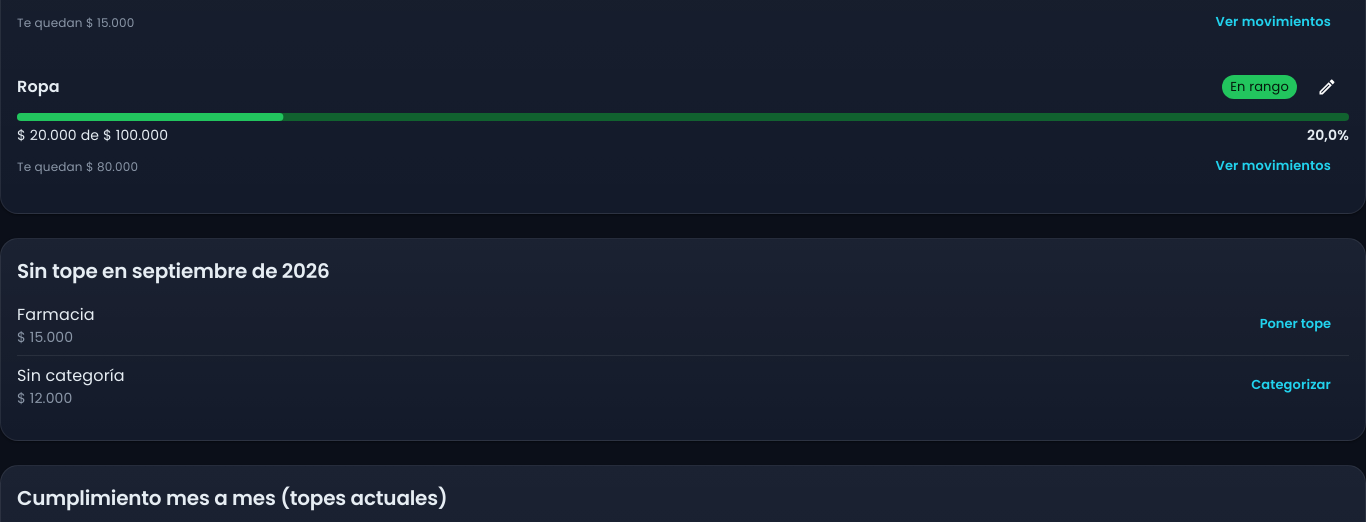
Scenario: BudgetsPage › si el server rechaza el tope muestra su mensaje
(page scrolled)
Click the button with aria-label "Poner tope a Farmacia" at (1295, 325), box [1242,303,1349,347]
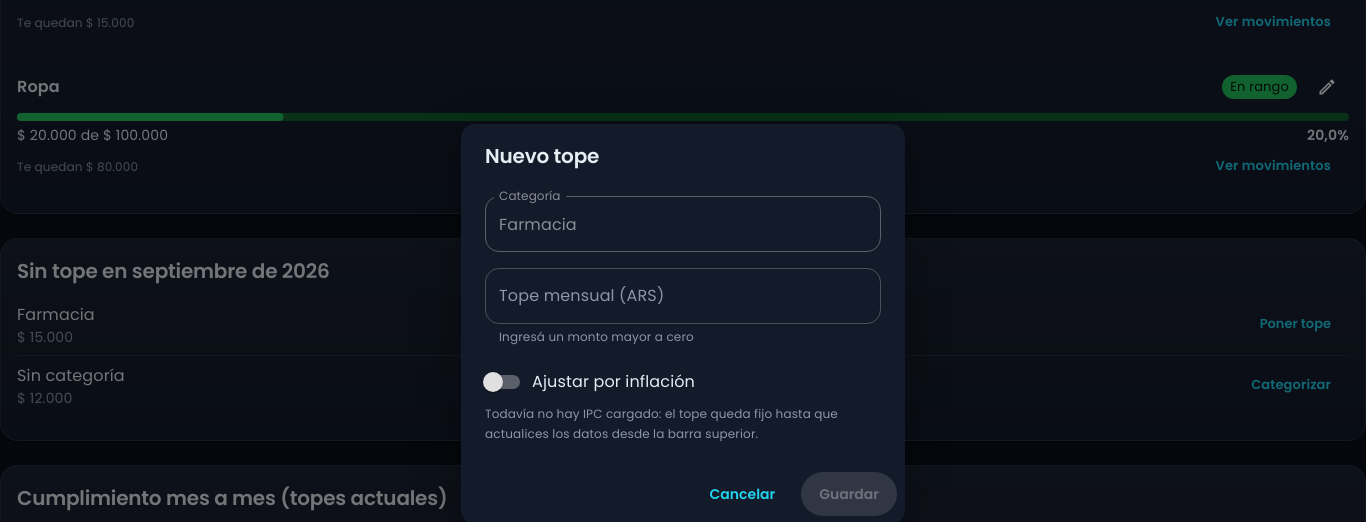
Type "1000" into the field labelled "Tope mensual (ARS)" at (683, 296), box [485,268,881,324]
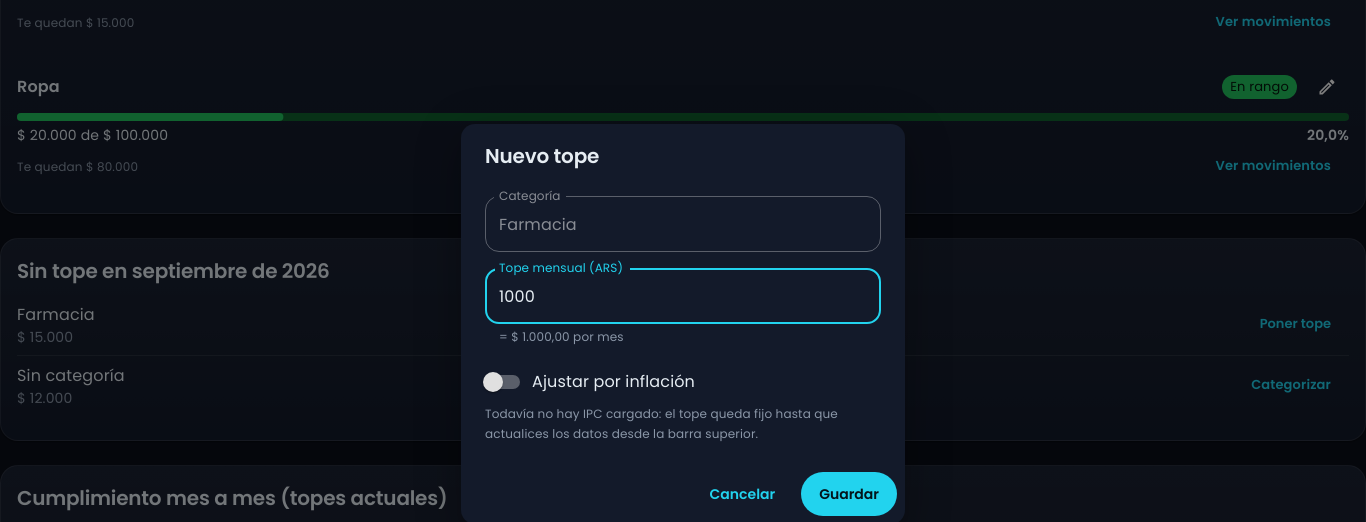
Click the button "Guardar" at (849, 494), box [801,472,897,516]
(page scrolled)
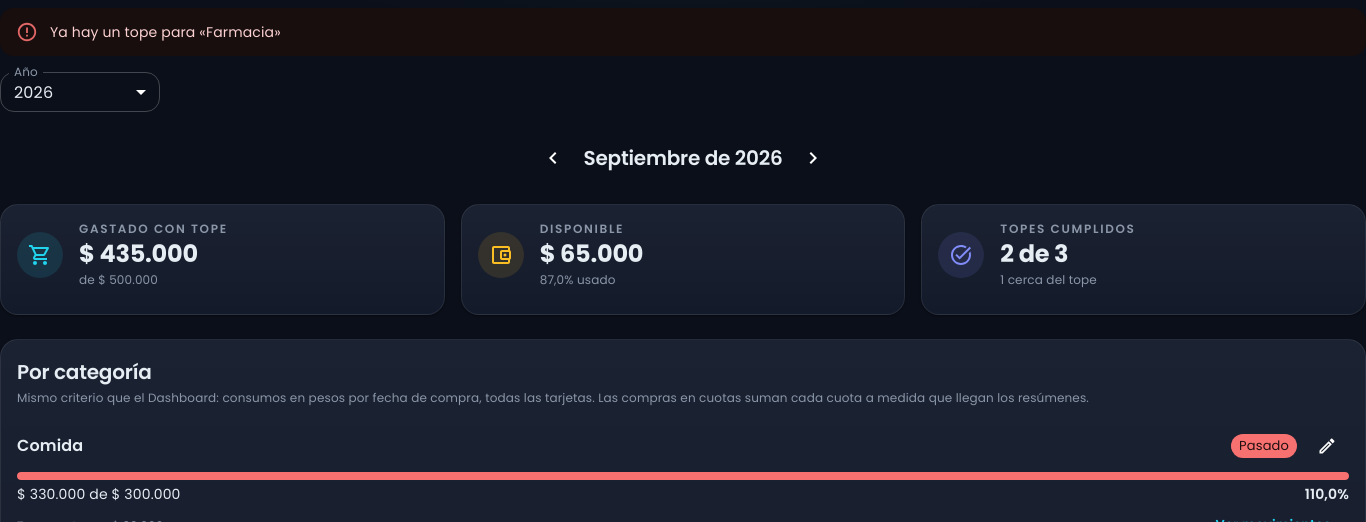
Expected: the text "Ya hay un tope para «Farmacia»" is shown, [50,22,281,42]
